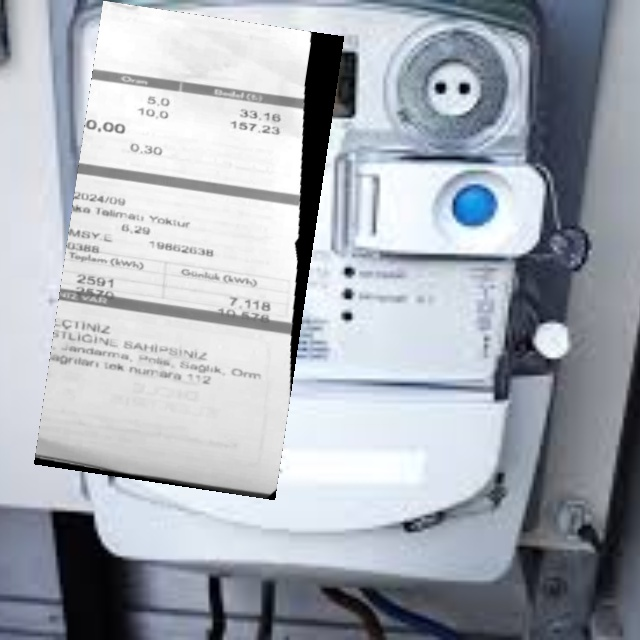electricity-bill: (33, 1, 343, 499)
